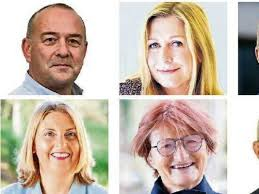person: (143, 2, 213, 89), (140, 102, 209, 187), (22, 3, 88, 87), (27, 101, 87, 176)
